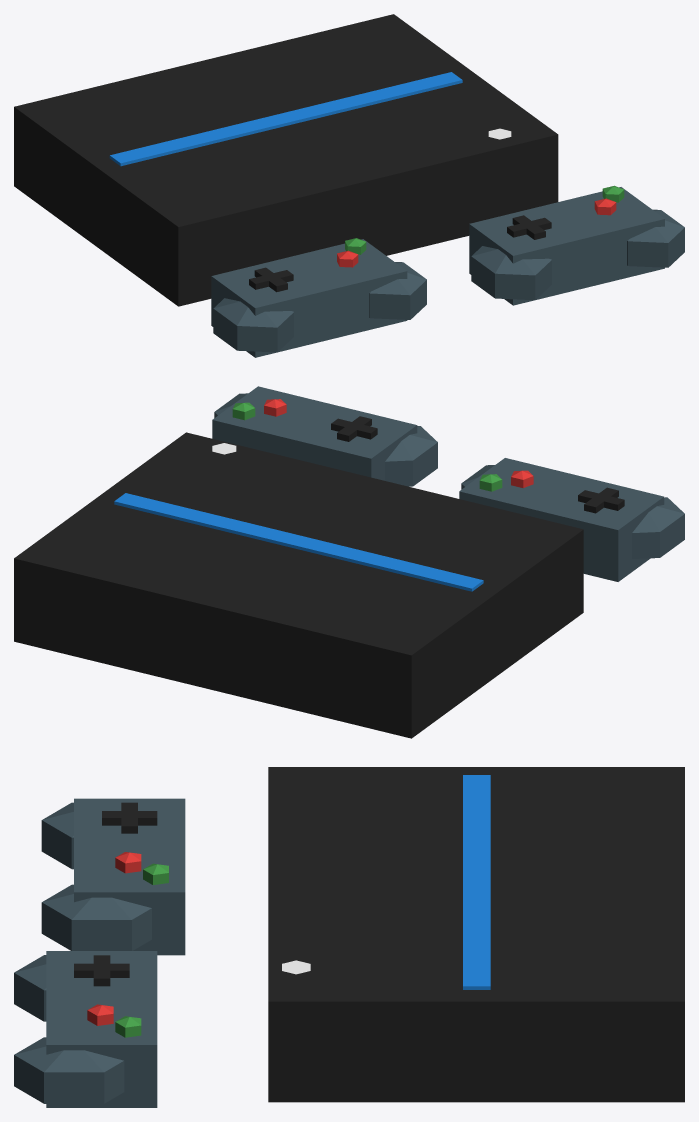
File: spelkonsol.glb
3 renders of one model, top to bottom at view 1: azimuth 30°, elevation 25°; view 2: azimuth 150°, elevation 25°; view 3: azimuth 270°, elevation 25°, orthographic. The views are drawn at different scales.
Parts seen in each view (by area): view 1: spelkonsol; view 2: spelkonsol; view 3: spelkonsol.
Part boxes in pixels (x1,y1,x2,y2): spelkonsol: (14, 14, 684, 357); spelkonsol: (14, 386, 684, 738); spelkonsol: (14, 767, 684, 1107).
Bounding box in the file's own units: 0.46 × 0.084 × 0.4833.
